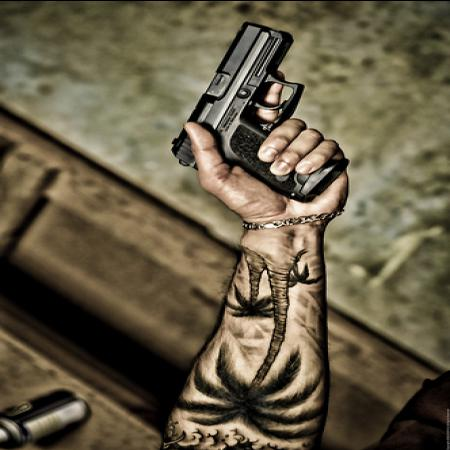Pistol: (170, 21, 342, 206)
